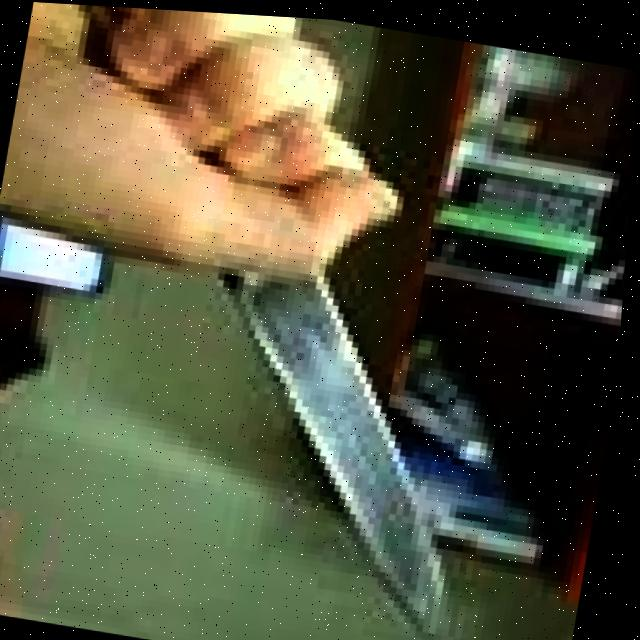knife: (175, 244, 507, 631)
